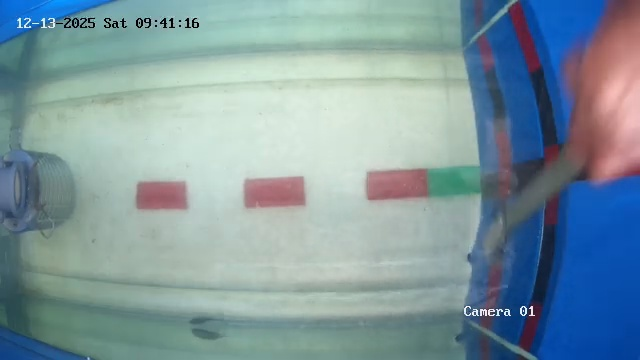fish: (186, 313, 230, 328)
